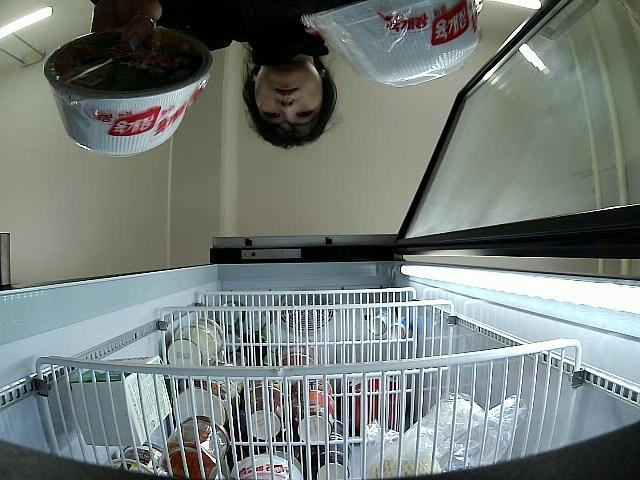09_yukGaeJang: (43, 28, 213, 159), (301, 0, 483, 89)
